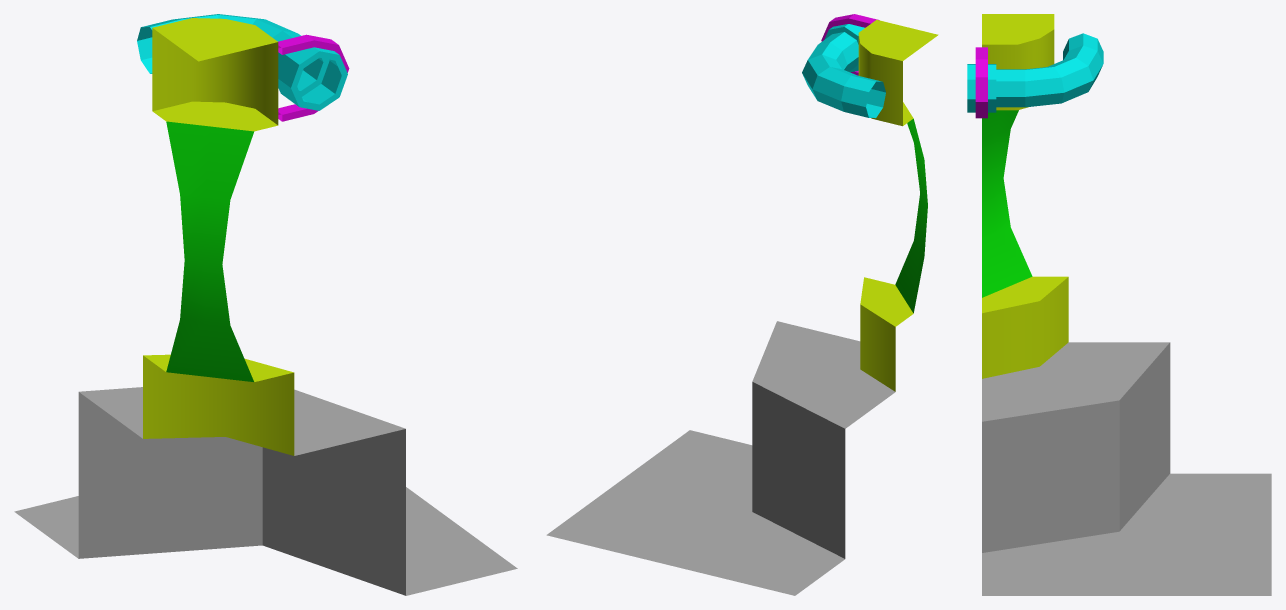
The model's file is Wall_a_corner1.fbx.
3 views of the same model, side by side, from view 1: azimuth 30°, elevation 25°; view 2: azimuth 150°, elevation 25°; view 3: azimuth 270°, elevation 25° (orthographic). The views are drawn at different scales.
Parts seen in each view (by area): view 1: Floorplane3, Wall_corner:pCube2, Wall_corner:polySurface1, Wall_corner:pCylinder1, Wall_corner:polySurface3; view 2: Floorplane3, Wall_corner:pCube2, Wall_corner:pCylinder1, Wall_corner:polySurface3; view 3: Floorplane3, Wall_corner:pCube2, Wall_corner:pCylinder1, Wall_corner:polySurface3, Wall_corner:polySurface1.
Boxes of the visible parts, bbox=[...] form: Floorplane3: bbox=[14, 387, 517, 595]; Wall_corner:pCube2: bbox=[143, 18, 294, 455]; Wall_corner:polySurface1: bbox=[278, 47, 347, 110]; Wall_corner:pCylinder1: bbox=[137, 14, 323, 90]; Wall_corner:polySurface3: bbox=[278, 34, 349, 121]; Floorplane3: bbox=[546, 321, 895, 595]; Wall_corner:pCube2: bbox=[858, 19, 938, 391]; Wall_corner:pCylinder1: bbox=[802, 32, 885, 118]; Wall_corner:polySurface3: bbox=[821, 14, 879, 75]; Floorplane3: bbox=[982, 342, 1271, 595]; Wall_corner:pCube2: bbox=[982, 14, 1068, 378]; Wall_corner:pCylinder1: bbox=[996, 33, 1103, 107]; Wall_corner:polySurface3: bbox=[975, 47, 987, 118]; Wall_corner:polySurface1: bbox=[967, 64, 996, 112].
Size of the model in its own units: 10 by 17.5 by 10.5.
